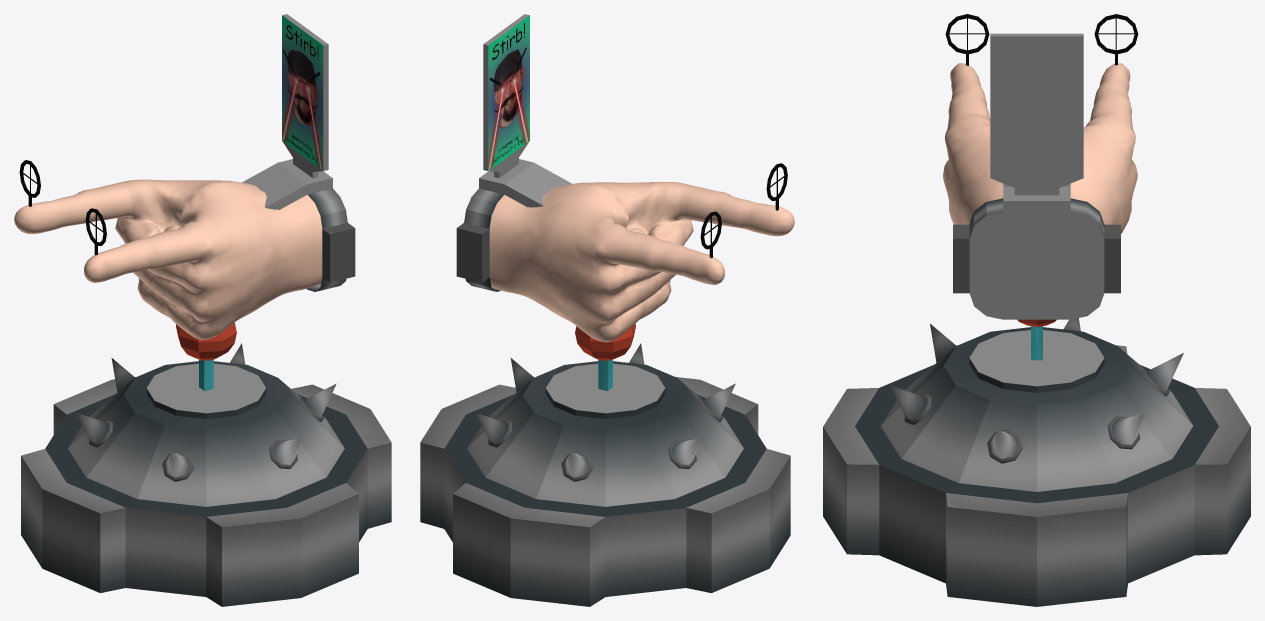
File: Manufaktur_Turret_FK_v01.glb
The picture shows the model from 3 angles, left to right: view 1: azimuth 30°, elevation 25°; view 2: azimuth 150°, elevation 25°; view 3: azimuth 270°, elevation 25°; orthographic projection. The views are drawn at different scales.
Visible parts, largest first — view 1: Cone; view 2: Cone; view 3: Cone.
Part boxes in pixels (left/top/right/bottom): Cone: left=14, top=14, right=391, bottom=606; Cone: left=420, top=14, right=794, bottom=606; Cone: left=823, top=14, right=1250, bottom=606.
Size of the model in its own units: 2.74 by 3.78 by 2.74.
1 material, 1 textured.
